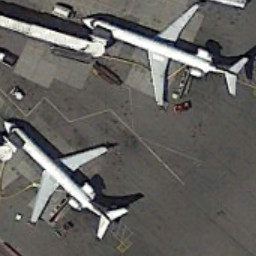Airplane: (77, 1, 251, 114), (1, 102, 134, 248)
